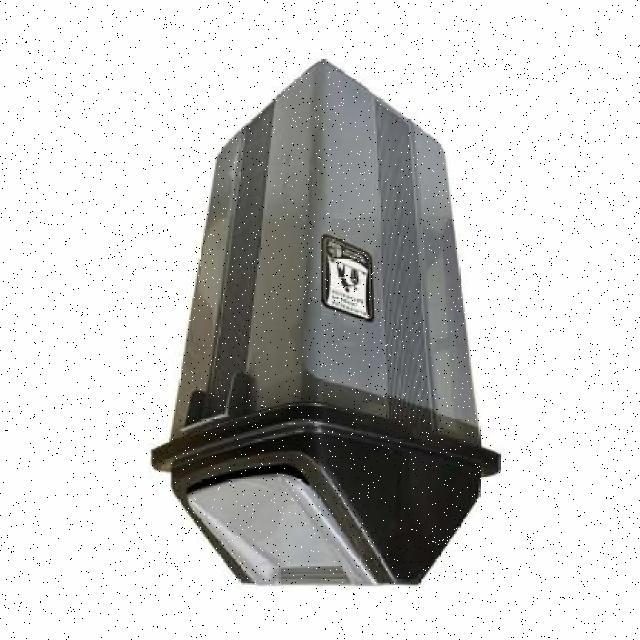garbage container: (145, 43, 522, 596)
